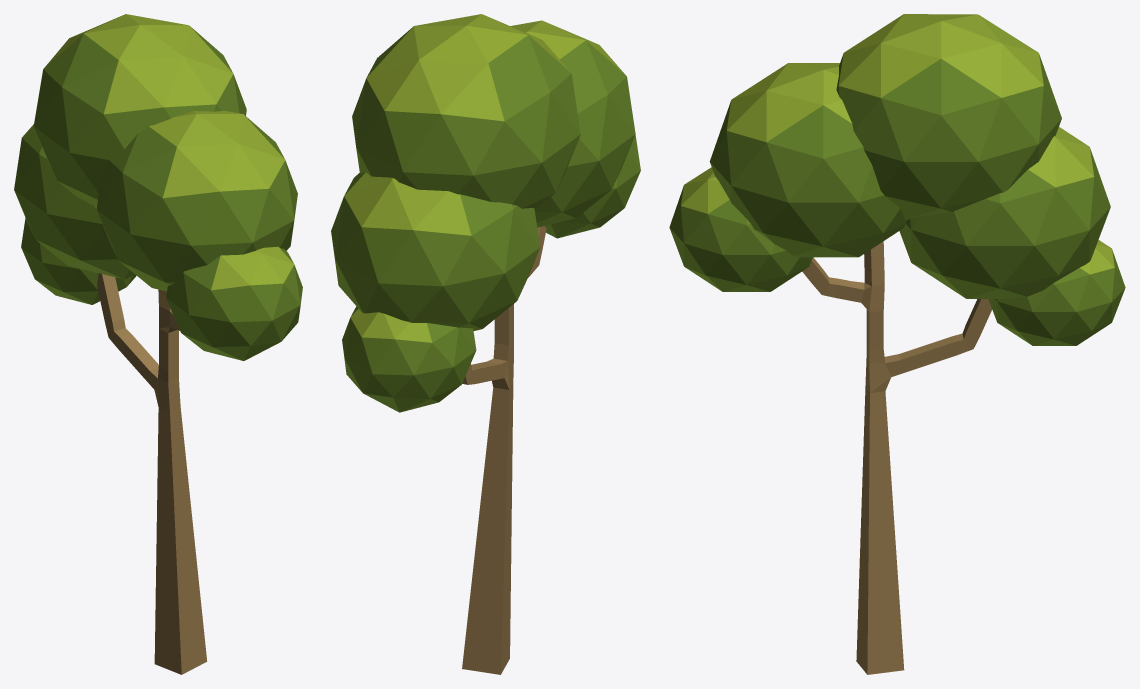
The model's file is treeRegular_Col.fbx.
3 renders of one model, left to right at view 1: azimuth 30°, elevation 25°; view 2: azimuth 150°, elevation 25°; view 3: azimuth 270°, elevation 25°, orthographic. The views are drawn at different scales.
Parts seen in each view (by area): view 1: tree_Regular; view 2: tree_Regular; view 3: tree_Regular.
Part boxes in pixels (box(x1,y1,x2,y2)): tree_Regular: box(14, 14, 302, 674); tree_Regular: box(331, 14, 640, 674); tree_Regular: box(669, 14, 1125, 674).
Size of the model in its own units: 64.57 by 216 by 140.
